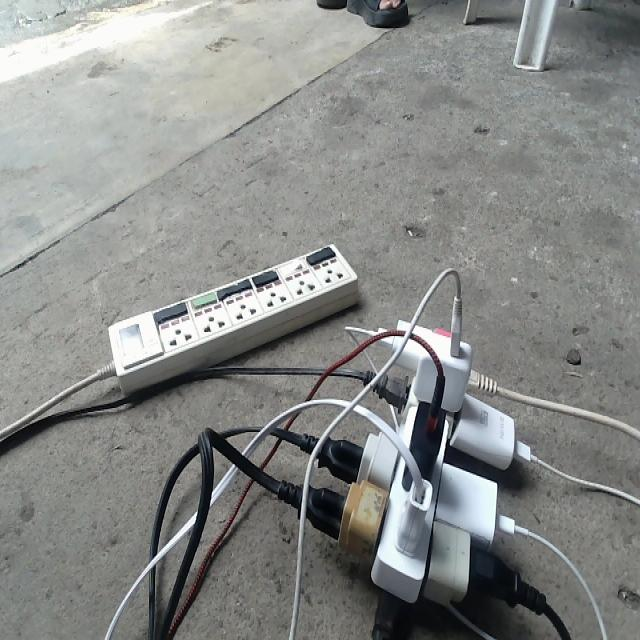-: (285, 291, 545, 638)
